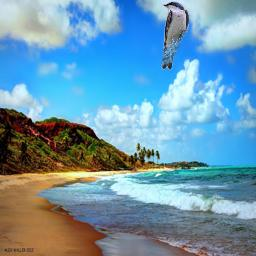Swallow: (160, 1, 189, 70)
